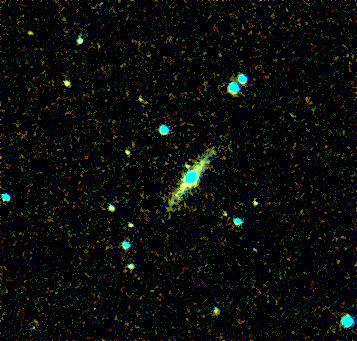star: (174, 149, 204, 179)
